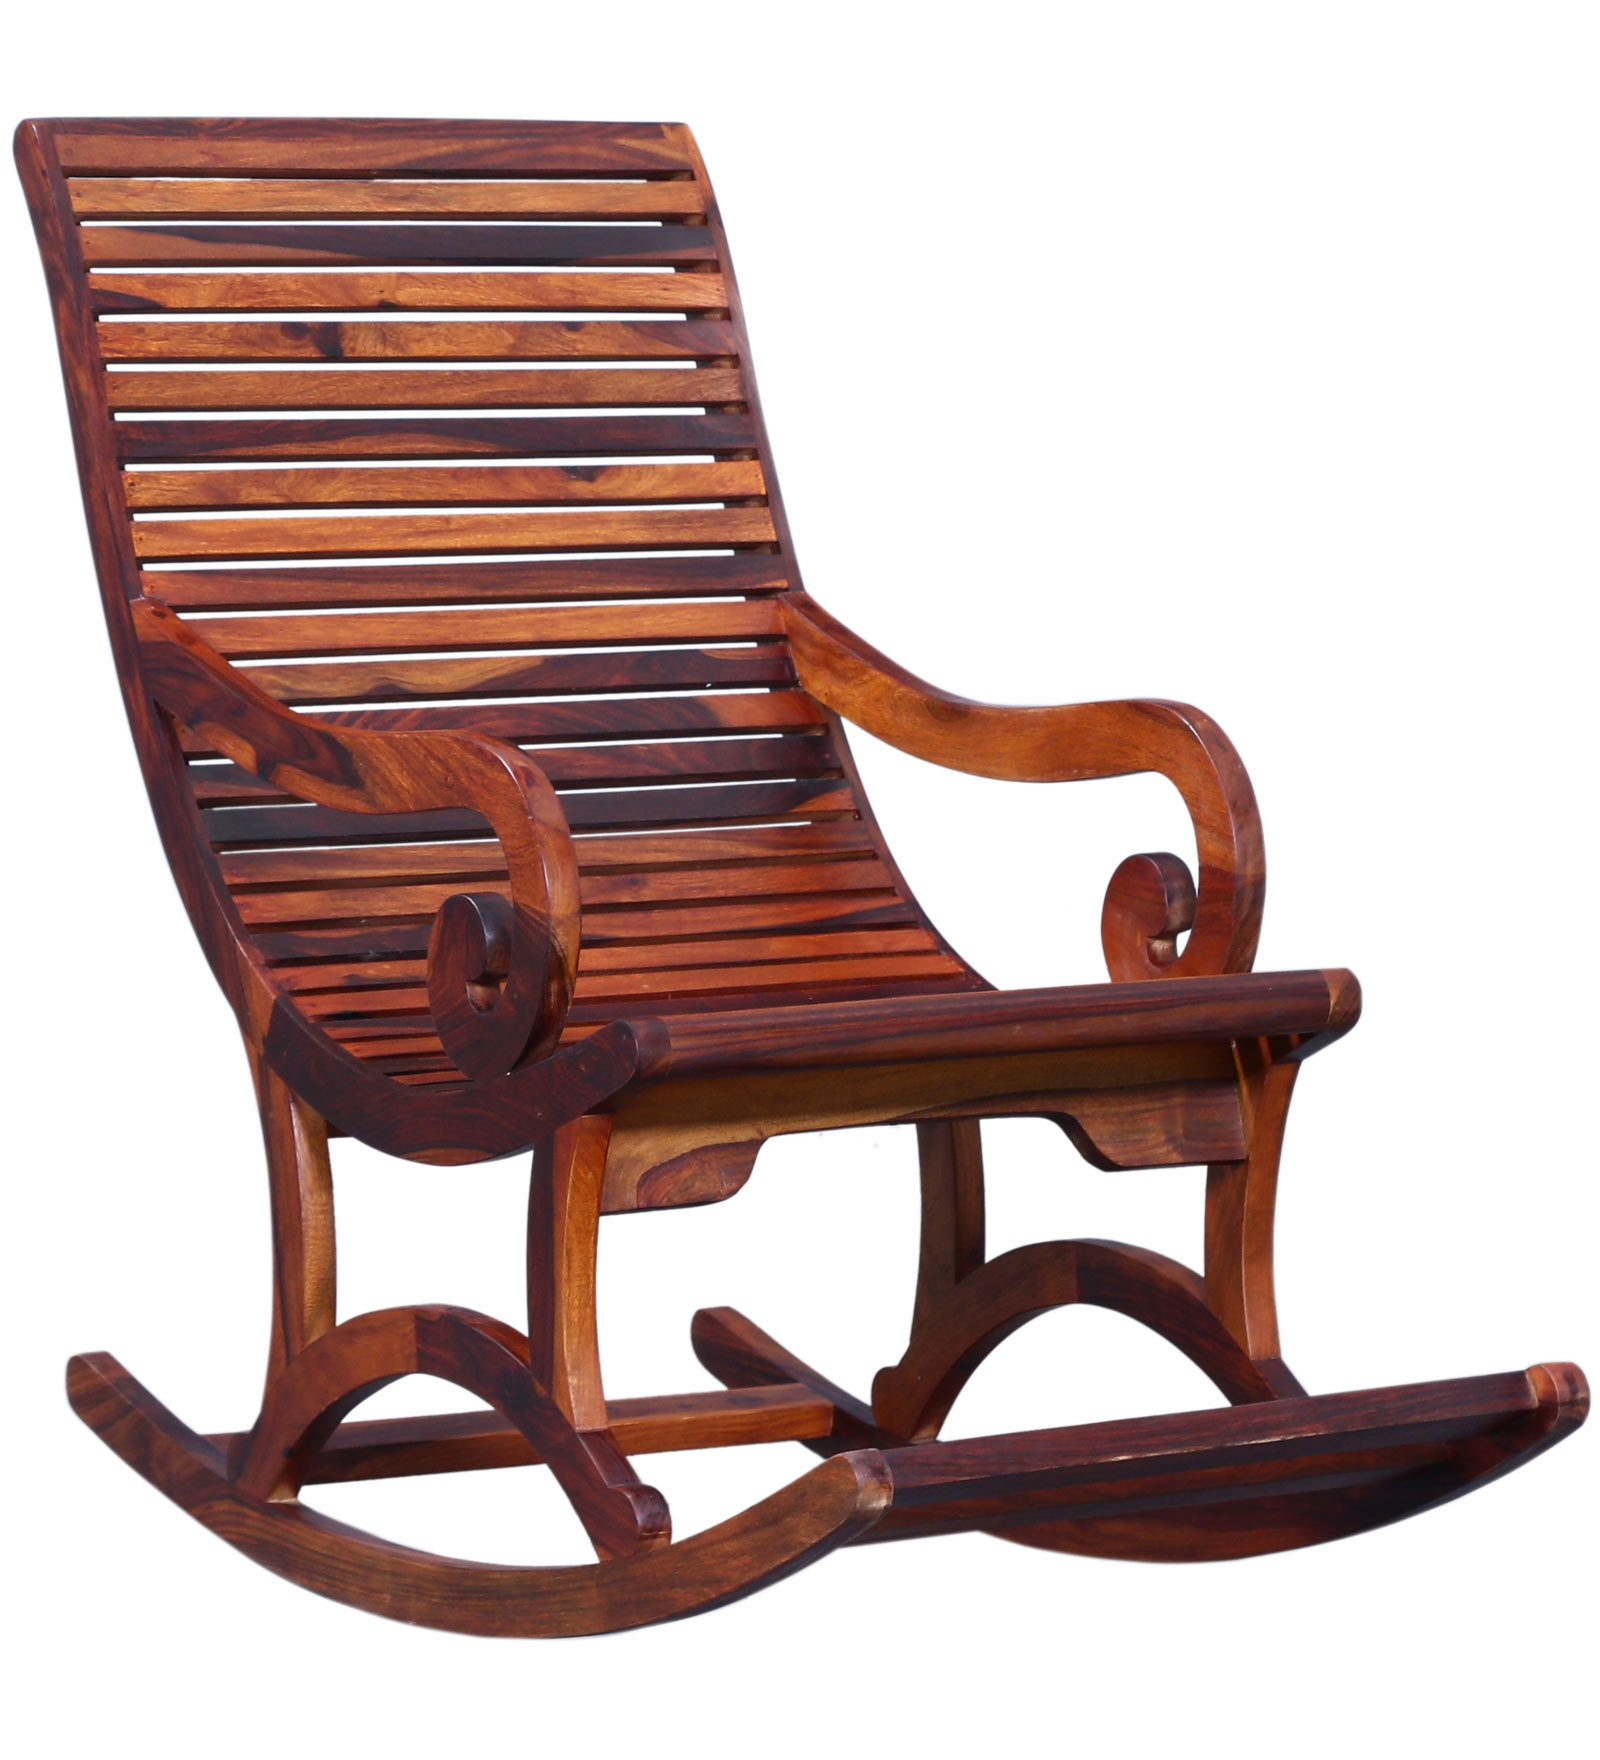Wellesley Rocking Chair in Honey Oak Finish by Amberville: (15, 100, 1600, 1670)
